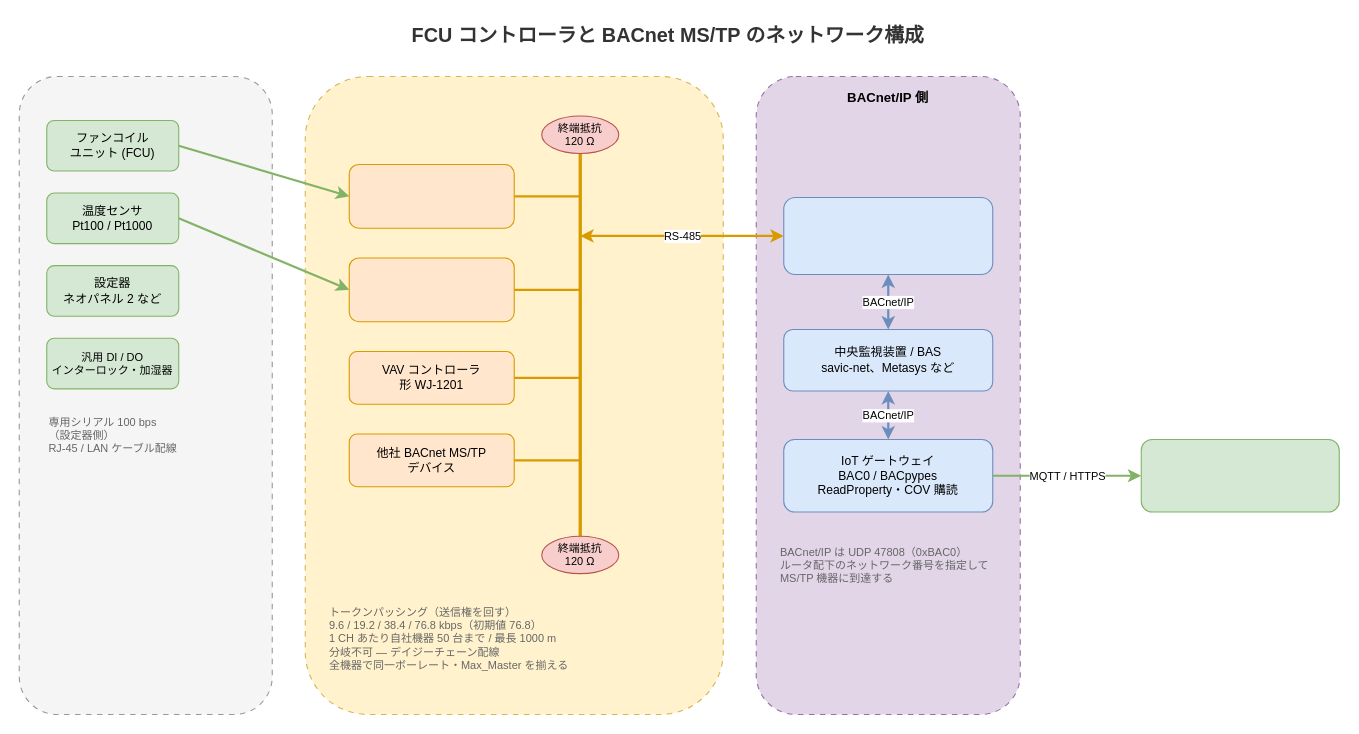
This 1359x734 diagram has some shape labels left out. The box of each missing label's shape, as (x1, y1, x2, y2) in pixels:
FCU コントローラ 形 WJ-1202 MAC 1: (348, 163, 514, 228)
FCU コントローラ 形 WJ-1202 MAC 2: (348, 257, 514, 322)
RS-485 幹線 ― BACnet MS/TP: (304, 75, 723, 714)
クラウド 時系列 DB・可視化: (1140, 438, 1339, 512)
ジェネラルコントローラ （MS/TP ⇔ BACnet/IP ルータ） RS-485 幹線 2 CH: (783, 196, 993, 274)
現場側（居室）: (18, 75, 272, 714)
